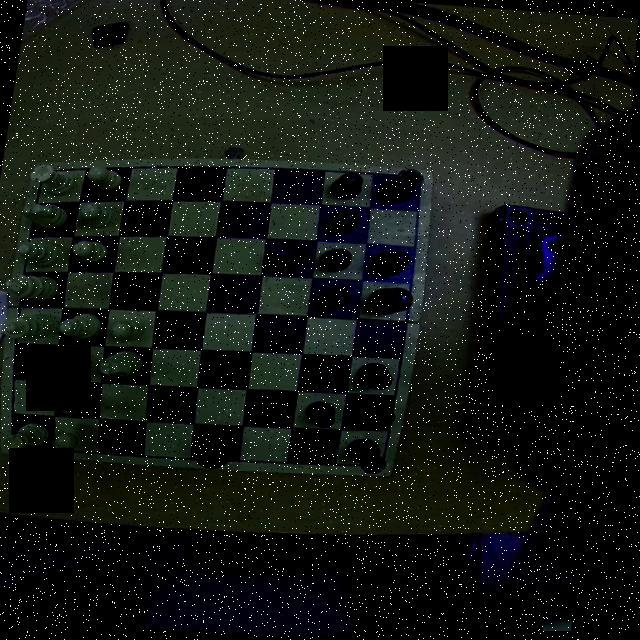chess-table-corners: (406, 169, 434, 193), (376, 451, 402, 474), (6, 436, 36, 454), (33, 164, 57, 184)
